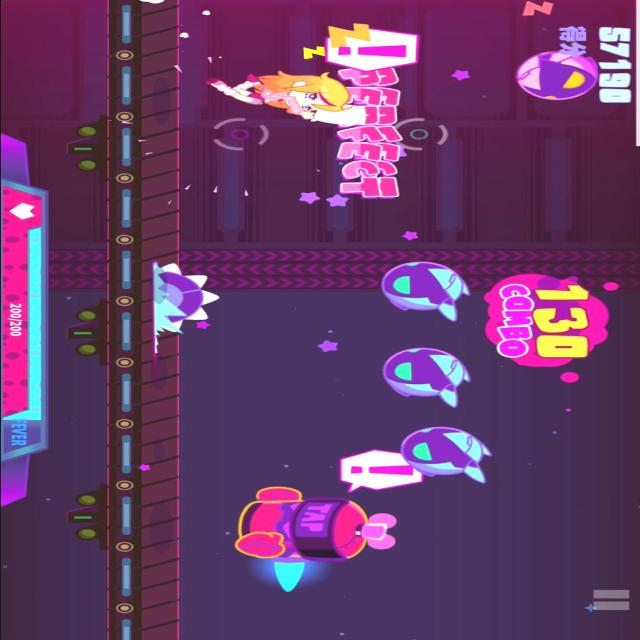ci: (146, 254, 222, 366)
jiqiqiu: (375, 344, 473, 408), (397, 420, 492, 486), (379, 262, 470, 326), (514, 47, 602, 101)
tapboss: (233, 489, 399, 595)
